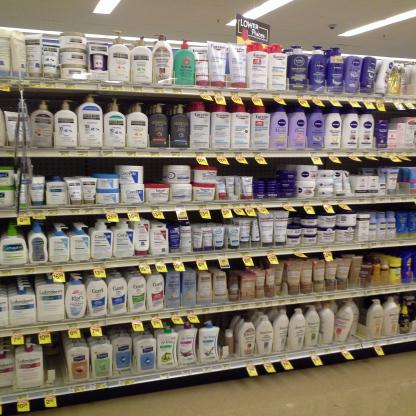Void: (40, 158, 102, 172), (44, 348, 65, 383), (144, 159, 166, 182), (251, 163, 277, 178), (220, 166, 247, 176)
